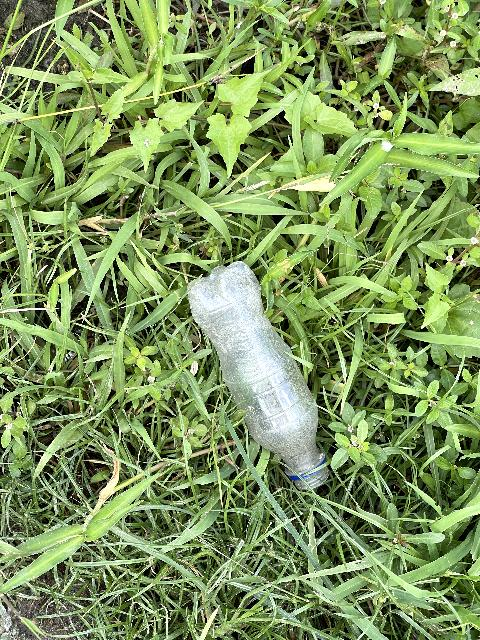bottle: (170, 269, 392, 525)
